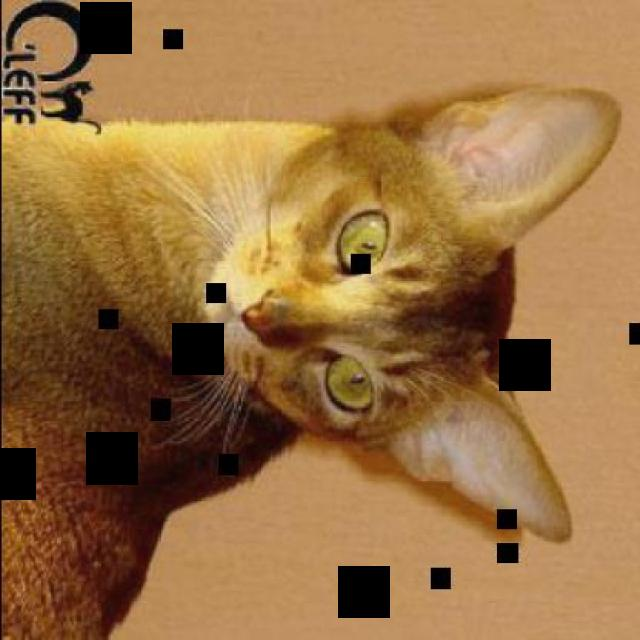unauthorized: (0, 81, 622, 638)
